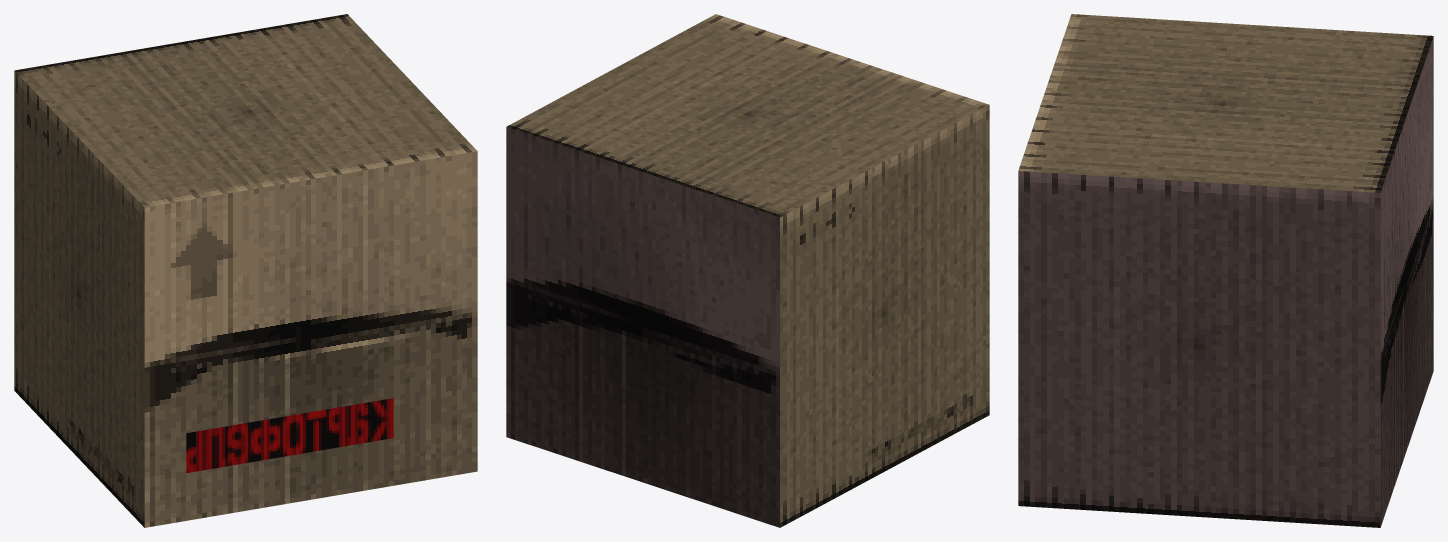
Rendered from primary_130.glb.
3 renders of one model, left to right at view 1: azimuth 30°, elevation 25°; view 2: azimuth 150°, elevation 25°; view 3: azimuth 270°, elevation 25°, orthographic. The views are drawn at different scales.
Visible parts, largest first — view 1: Object; view 2: Object; view 3: Object.
Boxes of the visible parts, x1=… form: Object: x1=14, y1=14, x2=477, y2=527; Object: x1=506, y1=14, x2=989, y2=527; Object: x1=1018, y1=14, x2=1433, y2=527.
Size of the model in its own units: 1.25 by 1.09 by 1.23.
7 materials, 7 textured.
